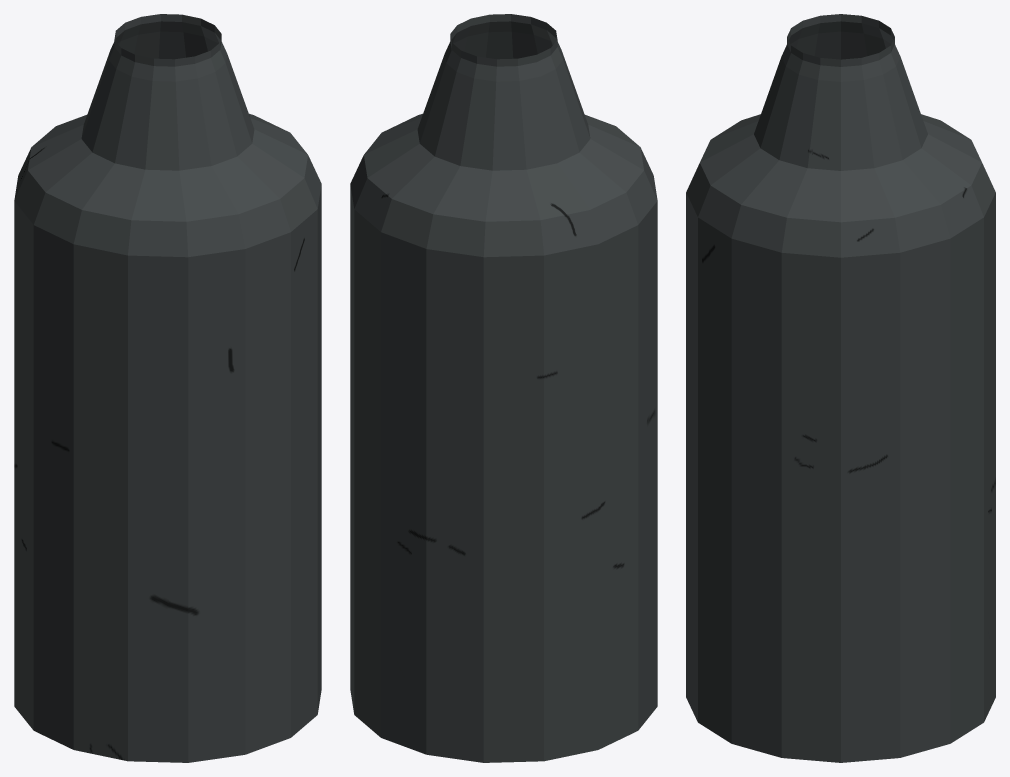
The model's file is rbsBottle.fbx.
3 renders of one model, left to right at view 1: azimuth 30°, elevation 25°; view 2: azimuth 150°, elevation 25°; view 3: azimuth 270°, elevation 25°, orthographic.
Visible parts, largest first — view 1: Cylinder; view 2: Cylinder; view 3: Cylinder.
Part boxes in pixels (box(x1,y1,x2,y2)): Cylinder: box(14, 14, 321, 762); Cylinder: box(350, 14, 657, 762); Cylinder: box(686, 14, 995, 762).
Size of the model in its own units: 10 by 23.54 by 10.
